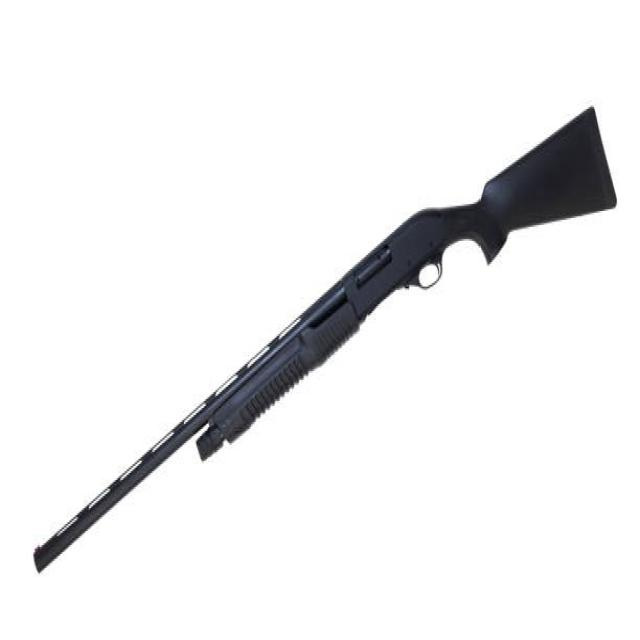rifle: (23, 97, 619, 587)
